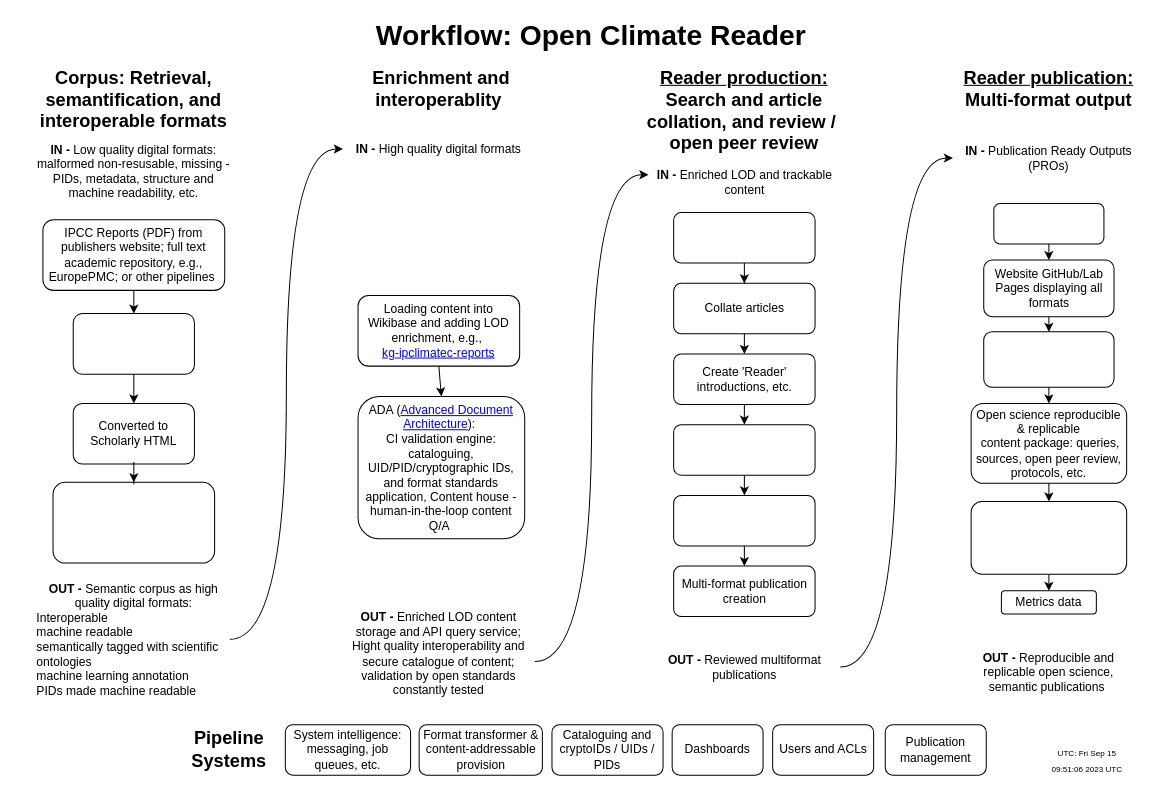
Image size: 1162x804. Some labels were removed from this diagram. The shapes that lost their labels are listed below. From the top down, each one's centre as x and y in pixels, then its label:
At point 744,237: "Search and filter articles".
At point 1048,223: "GitHub/Lab repository deposit".
At point 133,343: "py4ami processess PDFs (if needed)".
At point 1048,359: "LOD access page i.e: linking to sources and all outputs, and reuse".
At point 744,449: "Review and open peer review".
At point 133,522: "Dictionariy and machine learning scans annotating HMTL with semantic markup".
At point 744,520: "Multi-format preview".
At point 1048,537: "Publication PID assignment, institutional deposits, & multi-channel distribution".
